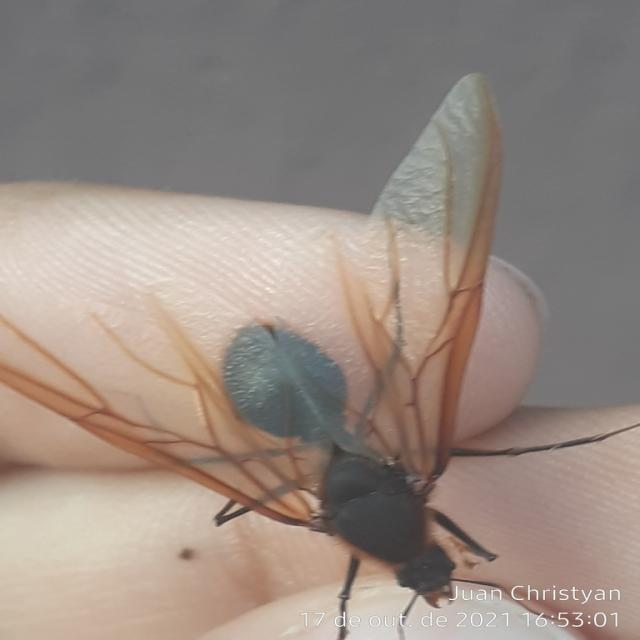Alive-Male-Alate: (0, 70, 638, 640)
